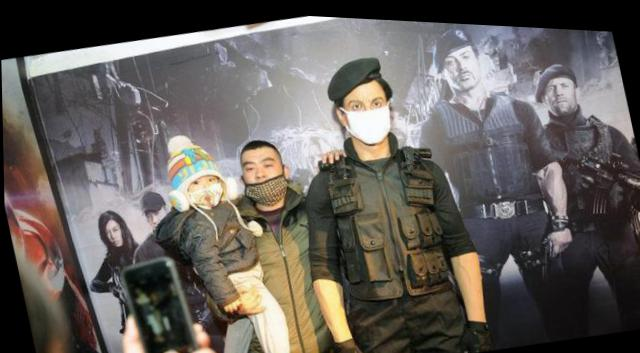NONE: (442, 45, 482, 88), (543, 72, 579, 110), (101, 223, 126, 248), (145, 206, 168, 232)
OK: (341, 87, 394, 141), (184, 164, 226, 208)
WRONG: (236, 146, 292, 204)
